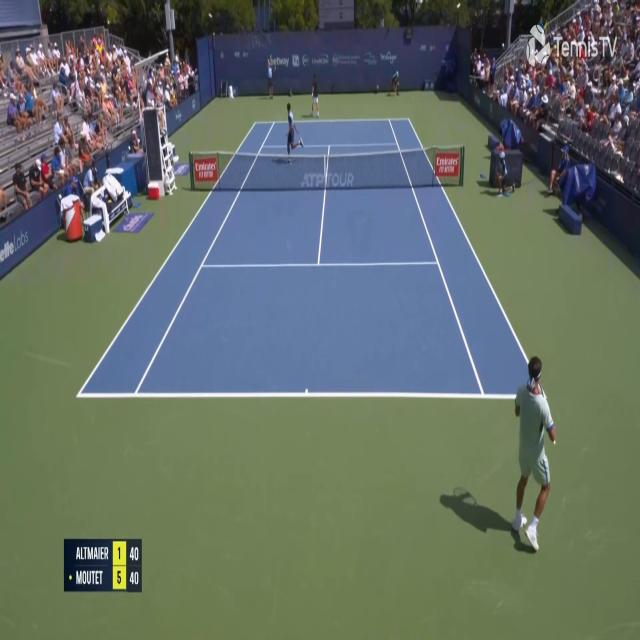tennis-player: (500, 353, 562, 557), (309, 71, 321, 116)
